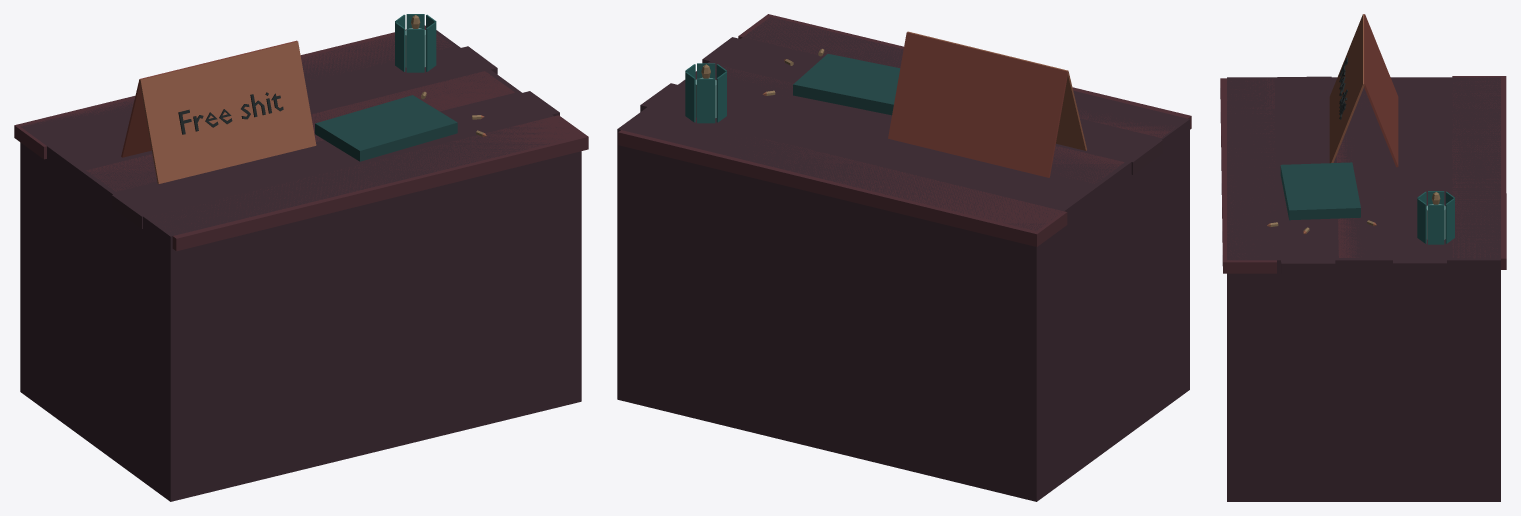
Rendered from masa_pistol.glb.
3 renders of one model, left to right at view 1: azimuth 30°, elevation 25°; view 2: azimuth 150°, elevation 25°; view 3: azimuth 270°, elevation 25°, orthographic. The views are drawn at different scales.
Visible parts, largest first — view 1: Coliziune, Masa; view 2: Coliziune, Masa; view 3: Coliziune, Masa.
Part boxes in pixels (x1,y1,x2,y2): Coliziune: (20, 27, 581, 501); Masa: (14, 14, 588, 251); Coliziune: (617, 17, 1189, 501); Masa: (618, 14, 1191, 246); Coliziune: (1227, 77, 1500, 501); Masa: (1220, 14, 1506, 275).
Size of the model in its own units: 1.23 by 0.9965 by 0.7941.
